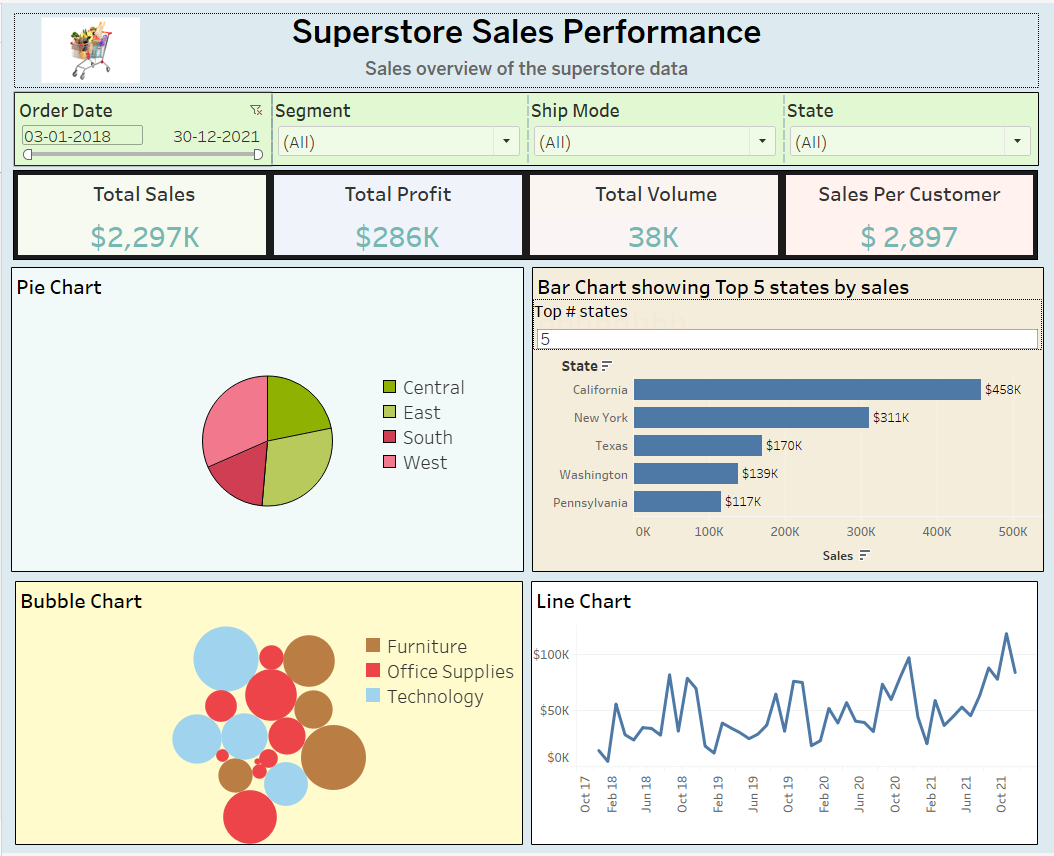

Layout of this report page (visuals, bound fields, positions):
{"tool":"tableau","page":{"name":"Sales Dasboard","canvas":[1055,850],"ordinal":0},"visuals":[{"type":"text","box":[13,11,1023,37]},{"type":"image","param":"Image/cart image.jpg","box":[18,14,141,66]},{"type":"text","box":[13,48,1023,36]},{"type":"filter","title":"Pie Chart","param":"[federated.0xgpsxb0zscynt1awdzyn1n77him].[none:Order Date:qk]","box":[13,90,256,72]},{"type":"filter","title":"Pie Chart","param":"[federated.0xgpsxb0zscynt1awdzyn1n77him].[none:Segment:nk]","box":[269,90,256,72]},{"type":"filter","title":"Pie Chart","param":"[federated.0xgpsxb0zscynt1awdzyn1n77him].[none:Ship Mode:nk]","box":[525,90,256,72]},{"type":"filter","title":"Pie Chart","param":"[federated.0xgpsxb0zscynt1awdzyn1n77him].[none:State:nk]","box":[781,90,255,72]},{"type":"worksheet","title":" Total Sales","mark":"Automatic","box":[12,168,256,88]},{"type":"worksheet","title":"Total Profit","mark":"Automatic","box":[268,168,256,88]},{"type":"worksheet","title":" Total Volume","mark":"Automatic","box":[524,168,256,88]},{"type":"worksheet","title":"Sales Per Customer","mark":"Automatic","box":[780,168,255,88]},{"type":"worksheet","title":"Pie Chart","mark":"Pie","box":[5,260,521,313]},{"type":"worksheet","title":"Bar Chart","mark":"Automatic","rows":["State"],"cols":["Sales"],"box":[526,260,520,313]},{"type":"parameter","param":"[Parameters].[Parameter 1]","box":[531,296,509,51]},{"type":"legend","title":"Pie Chart","param":"[federated.0xgpsxb0zscynt1awdzyn1n77him].[none:Region:nk]","box":[375,371,140,126]},{"type":"worksheet","title":"Bubble Chart","mark":"Circle","box":[9,574,516,272]},{"type":"worksheet","title":"Line Chart","mark":"Automatic","rows":["Sales"],"cols":["Order Date"],"box":[525,574,515,272]},{"type":"legend","title":"Bubble Chart","param":"[federated.0xgpsxb0zscynt1awdzyn1n77him].[none:Category:nk]","box":[359,630,159,101]}]}

Visuals, with their boxes in screenshot pixels (x1, y1, x2, y2), scaled from the page's 1055x850 canvas onto the 1054x856 screenshot:
text: crop(13, 11, 1035, 48)
image: crop(18, 14, 159, 81)
text: crop(13, 48, 1035, 85)
"Pie Chart" filter: crop(13, 91, 269, 163)
"Pie Chart" filter: crop(269, 91, 525, 163)
"Pie Chart" filter: crop(525, 91, 780, 163)
"Pie Chart" filter: crop(780, 91, 1035, 163)
" Total Sales" worksheet: crop(12, 169, 268, 258)
"Total Profit" worksheet: crop(268, 169, 524, 258)
" Total Volume" worksheet: crop(524, 169, 779, 258)
"Sales Per Customer" worksheet: crop(779, 169, 1034, 258)
"Pie Chart" worksheet (Pie marks): crop(5, 262, 526, 577)
"Bar Chart" worksheet: crop(526, 262, 1045, 577)
parameter: crop(530, 298, 1039, 349)
"Pie Chart" legend: crop(375, 374, 515, 501)
"Bubble Chart" worksheet (Circle marks): crop(9, 578, 525, 852)
"Line Chart" worksheet: crop(525, 578, 1039, 852)
"Bubble Chart" legend: crop(359, 634, 518, 736)
